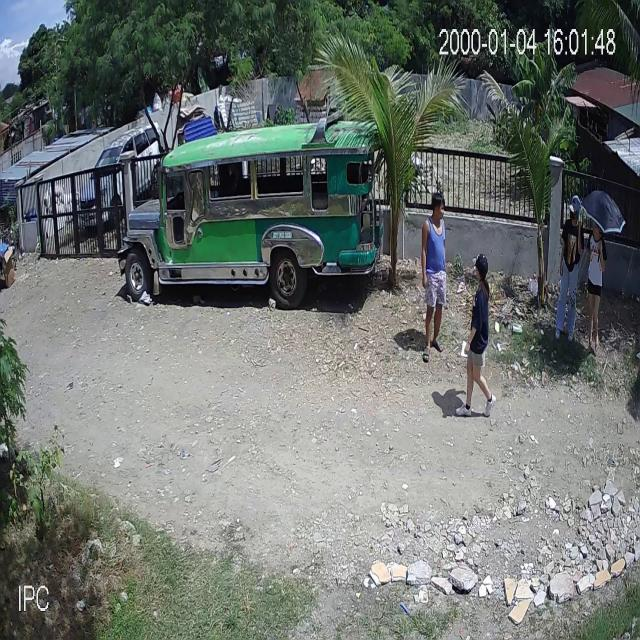standing: (416, 192, 448, 361), (554, 194, 586, 344), (584, 220, 608, 368)
walking: (454, 253, 499, 423)
